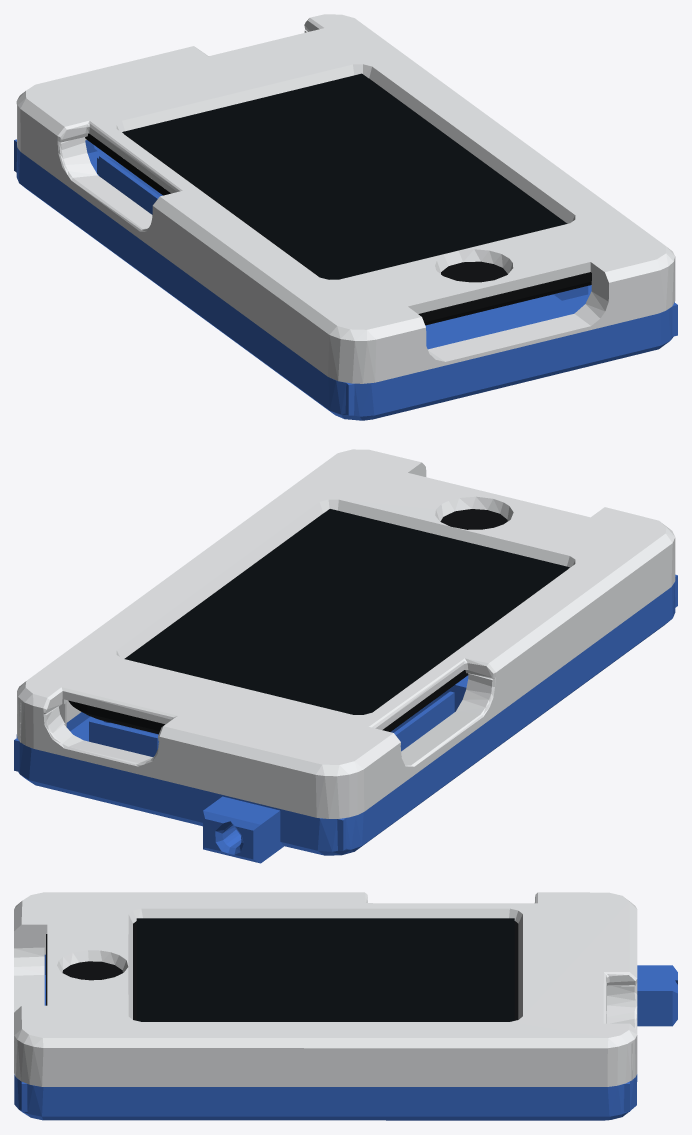
File: saturimetro.glb
3 renders of one model, top to bottom at view 1: azimuth 30°, elevation 25°; view 2: azimuth 150°, elevation 25°; view 3: azimuth 270°, elevation 25°, orthographic. The views are drawn at different scales.
Parts seen in each view (by area): view 1: cornice_v3, screen, scocca, iPod_touch4_rif; view 2: cornice_v3, screen, scocca, iPod_touch4_rif; view 3: cornice_v3, screen, scocca, iPod_touch4_rif.
Boxes of the visible parts, x1,y1,x2,y2 form: cornice_v3: (16, 14, 675, 383); screen: (122, 73, 566, 279); scocca: (14, 139, 677, 420); iPod_touch4_rif: (85, 78, 591, 325); cornice_v3: (17, 449, 675, 818); screen: (125, 509, 569, 714); scocca: (14, 574, 677, 863); iPod_touch4_rif: (68, 509, 567, 734); cornice_v3: (14, 892, 637, 1086); screen: (136, 918, 514, 1021); scocca: (14, 954, 677, 1120); iPod_touch4_rif: (46, 921, 518, 1020).
Bounding box in the file's own units: 0.0713 × 0.018 × 0.1315.
